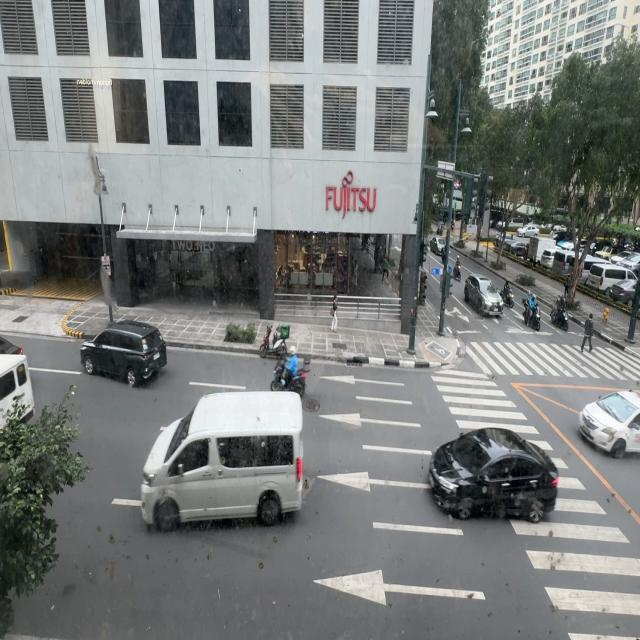crossing: (580, 313, 594, 351)
pedestrain: (330, 296, 338, 332), (564, 275, 570, 297)
